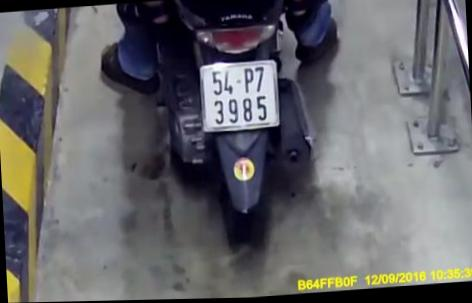LP: (198, 61, 281, 133)
